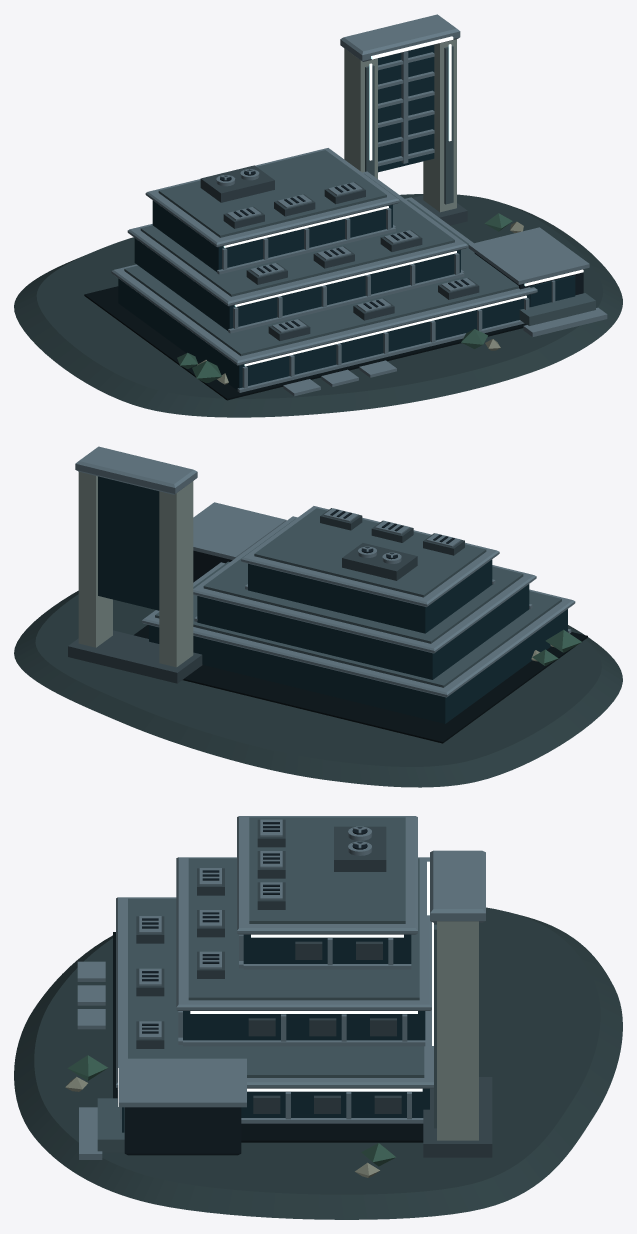
The model's file is district-cnesdata.glb.
The picture shows the model from 3 angles, top to bottom: view 1: azimuth 30°, elevation 25°; view 2: azimuth 150°, elevation 25°; view 3: azimuth 270°, elevation 25°; orthographic projection. The views are drawn at different scales.
Parts seen in each view (by area): view 1: regional-rise, decoration-roof, decoration-metal, layer-0, layer-1, gateway-pier (×2), decoration-equipment, decoration-glass, layer-2, layer-edge-0, entry-surface, layer-edge-1 (+8 smaller); view 2: regional-rise, decoration-roof, gateway-pier (×2), layer-0, layer-1, decoration-glass, layer-contact, layer-2, decoration-equipment, layer-edge-0, layer-edge-1, entry-surface (+5 smaller); view 3: regional-rise, decoration-roof, decoration-equipment, decoration-metal, gateway-pier, entry-surface, layer-edge-1, entry-module, layer-edge-2, layer-1, layer-edge-0, layer-contact (+6 smaller).
Part boxes in pixels (x1,y1,x2,y2): regional-rise: [14, 194, 622, 417]; decoration-roof: [124, 46, 595, 356]; decoration-metal: [216, 51, 607, 396]; layer-0: [118, 278, 530, 390]; layer-1: [134, 238, 460, 330]; gateway-pier (×2): [344, 39, 456, 212]; decoration-equipment: [200, 165, 479, 340]; decoration-glass: [378, 45, 575, 306]; layer-2: [152, 200, 392, 271]; layer-edge-0: [111, 197, 537, 365]; entry-surface: [468, 227, 589, 284]; layer-edge-1: [127, 171, 467, 306]; regional-rise: [14, 590, 622, 787]; decoration-roof: [155, 508, 561, 687]; gateway-pier (×2): [78, 472, 193, 667]; layer-0: [149, 609, 567, 723]; layer-1: [197, 584, 529, 679]; decoration-glass: [98, 476, 159, 610]; layer-contact: [134, 625, 587, 743]; layer-2: [248, 559, 492, 633]; decoration-equipment: [68, 508, 464, 683]; layer-edge-0: [141, 562, 575, 697]; layer-edge-1: [193, 516, 536, 653]; entry-surface: [193, 502, 286, 559]; regional-rise: [14, 907, 622, 1219]; decoration-roof: [97, 817, 436, 1152]; decoration-equipment: [136, 819, 492, 1157]; decoration-metal: [77, 819, 425, 1159]; gateway-pier: [437, 921, 478, 1140]; entry-surface: [119, 1058, 246, 1107]; layer-edge-1: [176, 857, 431, 1010]; entry-module: [124, 1107, 241, 1155]; layer-edge-2: [237, 816, 417, 934]; layer-1: [183, 1011, 425, 1040]; layer-edge-0: [116, 897, 433, 1088]; layer-contact: [113, 932, 423, 1142].
Bounding box in the file's own units: 8.13 × 3.08 × 6.53.
